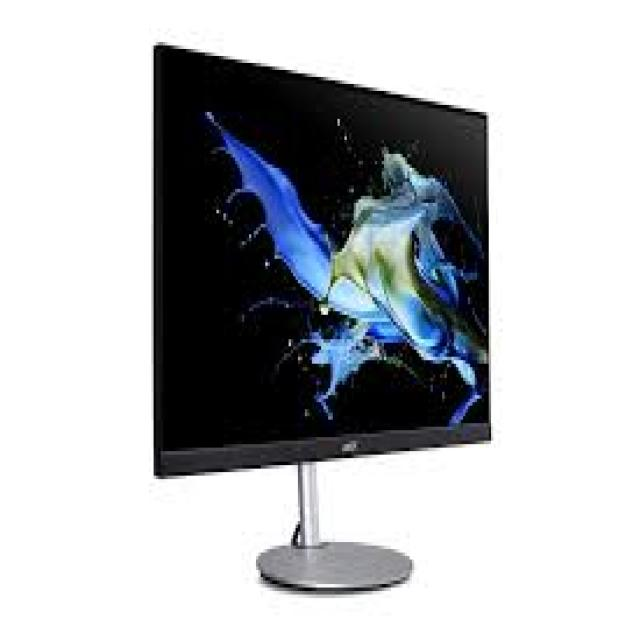monitor: (141, 30, 497, 554)
